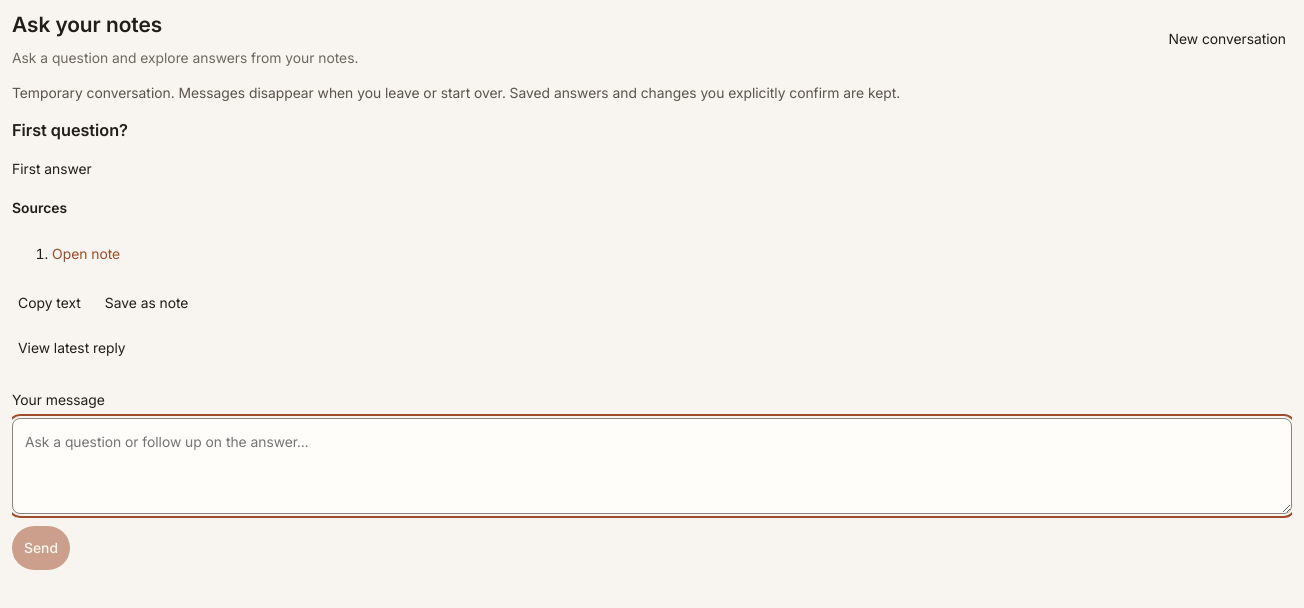
Test: shows a text-only Save refusal and leaves Save available instead of claiming success
This screenshot has width=1304, height=608.
What coordinates should you click on to do the following:
click the button "Save as note"
I would click on:
 (147, 303)
Its box is top-left (99, 292), bottom-right (194, 314).
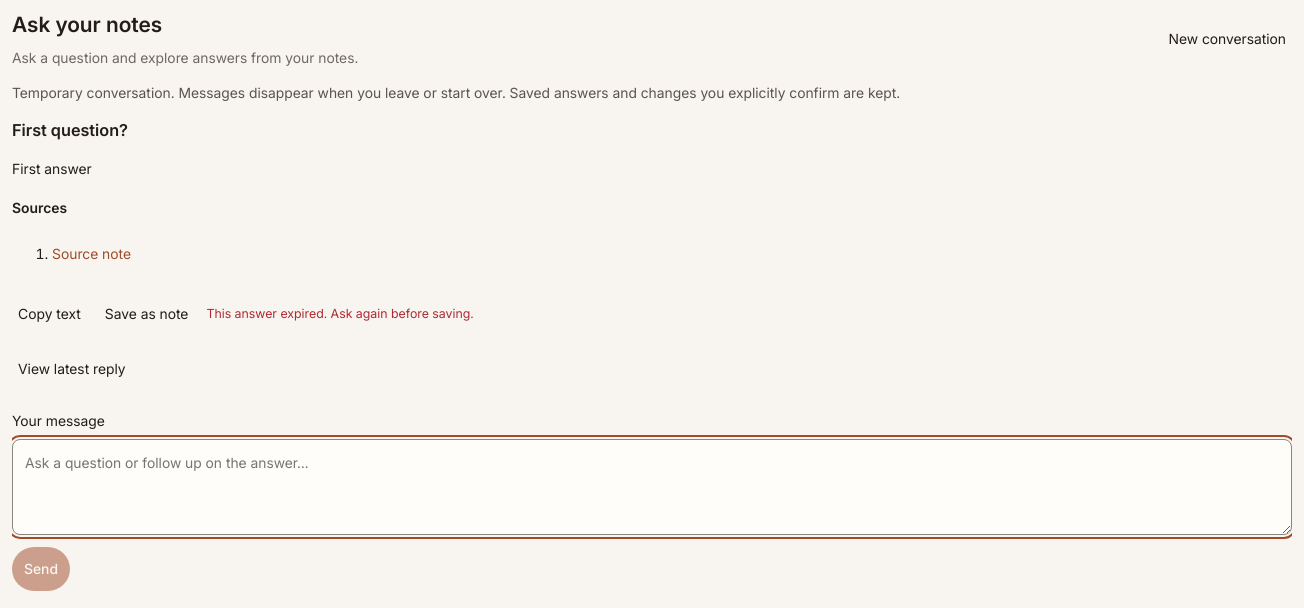
Expected: the button "Save as note" is enabled, top-left (99, 303), bottom-right (194, 325)
Expected: the message reads "This answer expired. Ask again before saving.", top-left (206, 306), bottom-right (474, 321)
